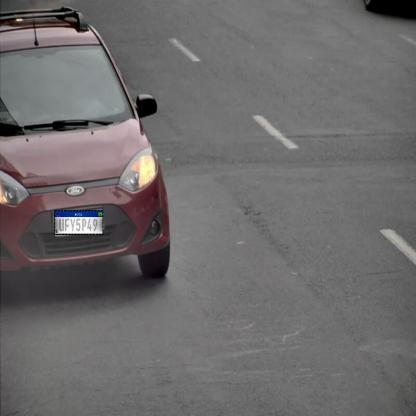PlacaM: (54, 210, 104, 235)
